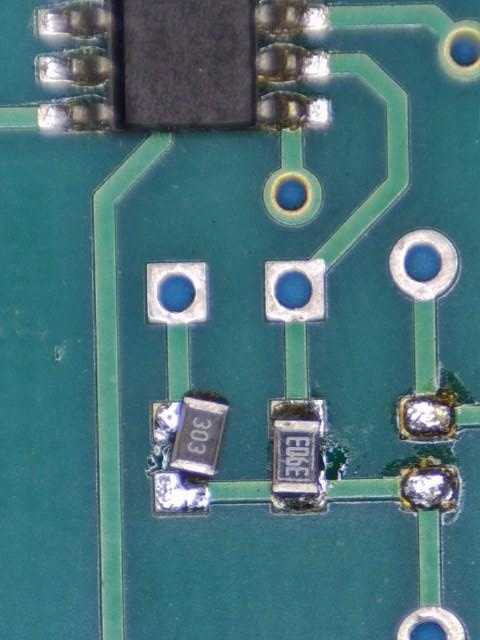pcb_defect: (151, 395, 231, 515)
